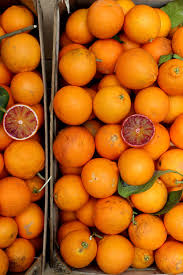orange: (113, 47, 158, 88), (58, 41, 96, 85), (80, 159, 119, 199), (52, 173, 89, 213), (117, 145, 154, 184), (51, 86, 89, 123), (54, 130, 94, 165), (61, 227, 94, 268), (94, 84, 130, 121)
